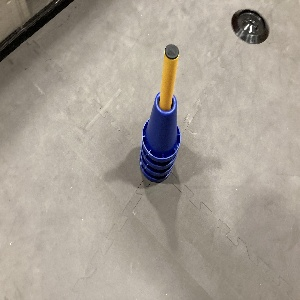Blue_4: (138, 87, 182, 187)
